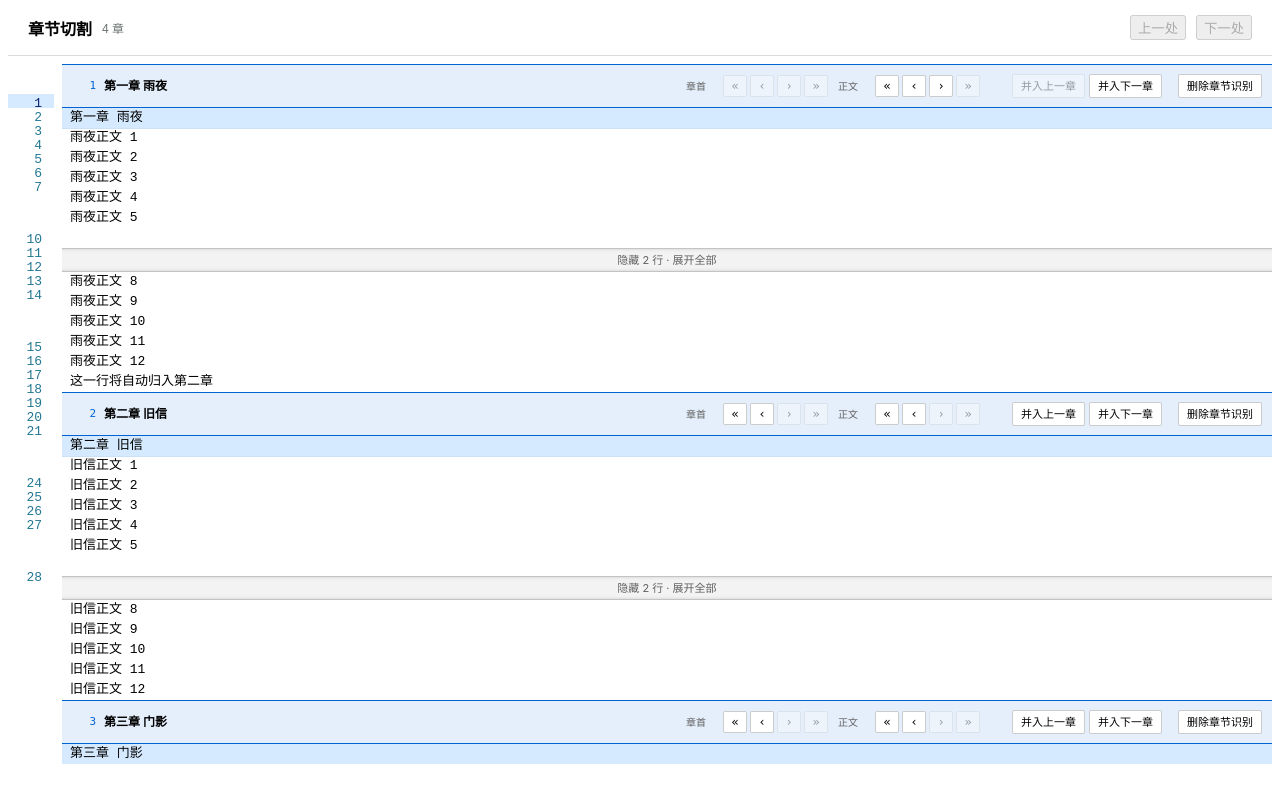
it: project workspace controllers › 直接删除章节识别并将原文转为未归属范围
Click the 3rd button with class "cm-chapter-widget__structure-action".
click(1220, 86)  # box [1178,74,1262,98]
(page scrolled)
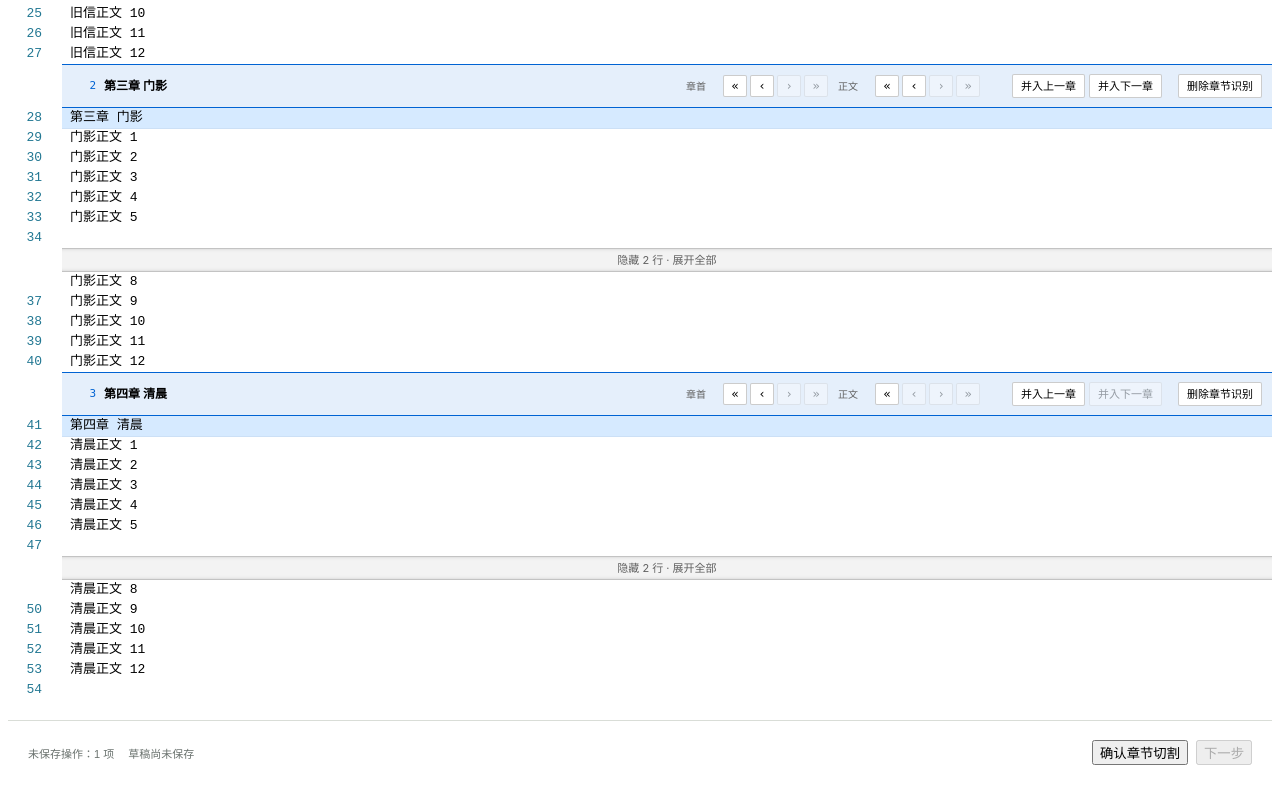
Expected: the button with test id "next-proofreading" is disabled, [1196,740,1252,765]
Expected: the text with test id "chapter-operation-count" shows "1", [28,748,114,760]
